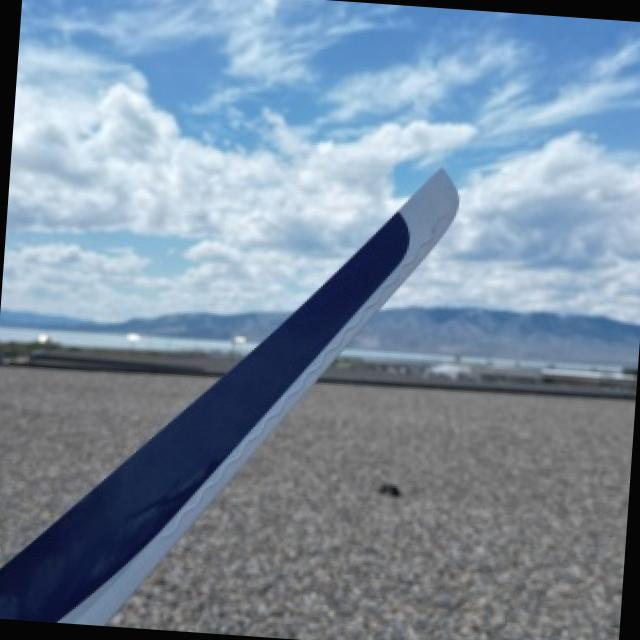healthy: (0, 168, 455, 623)
